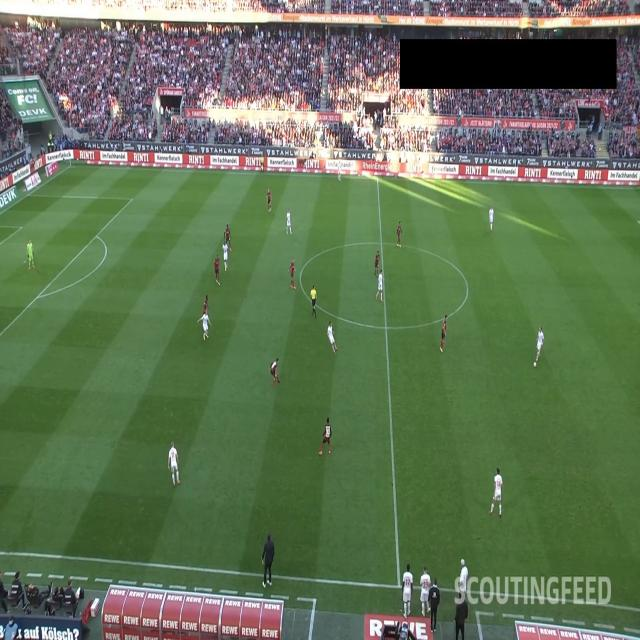ball: (533, 361, 537, 368)
